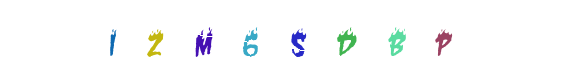6: (244, 0, 324, 80)
B: (346, 0, 426, 80)
D: (306, 0, 386, 80)
I: (115, 0, 195, 80)
M: (204, 0, 284, 80)
P: (403, 0, 483, 80)
S: (250, 0, 330, 80)
Z: (172, 0, 252, 80)
